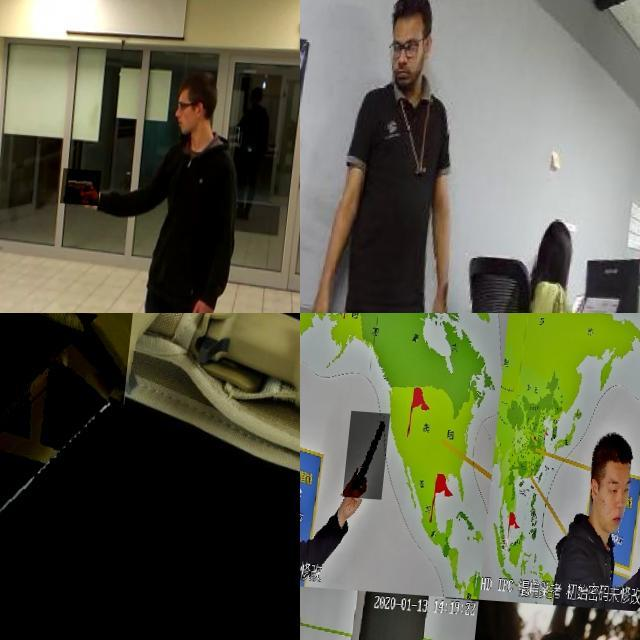-: (0, 313, 138, 640)
gun-knife-thesis - v11 Yolov5 augmented: (348, 409, 393, 497), (68, 165, 110, 202)
